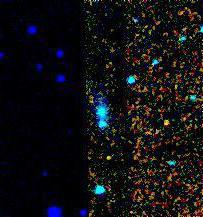star: (150, 106, 180, 136)
